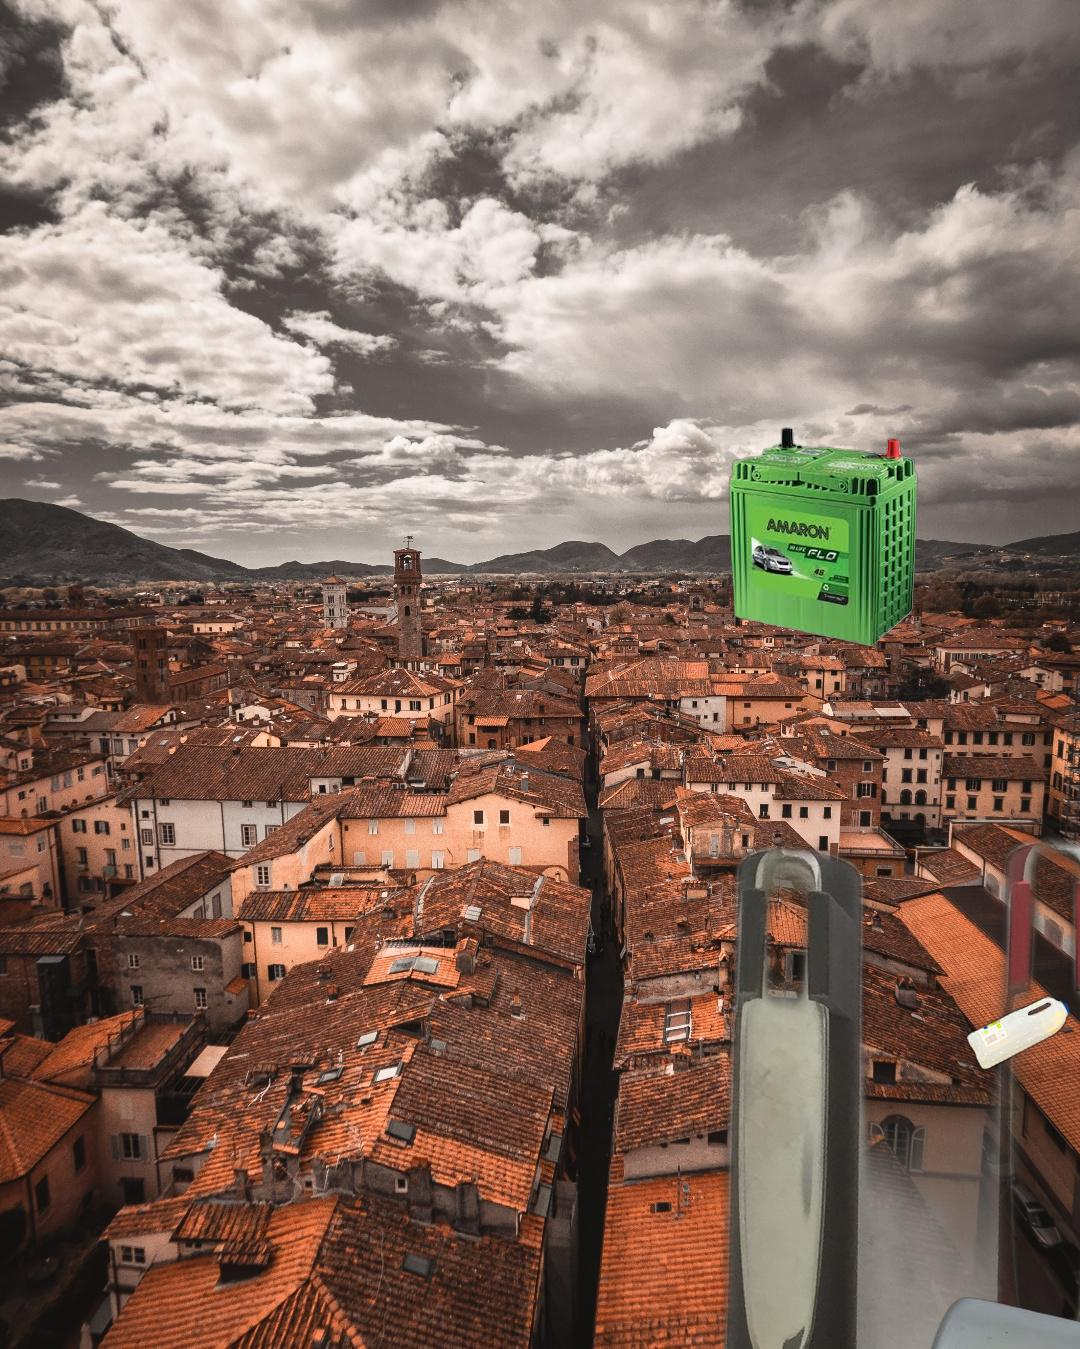battery: (726, 424, 920, 649)
glass: (918, 1294, 1080, 1349)
paper: (1039, 293, 1080, 677)
penholder: (634, 821, 1080, 1349)
plastic-bottles: (963, 991, 1074, 1075)
